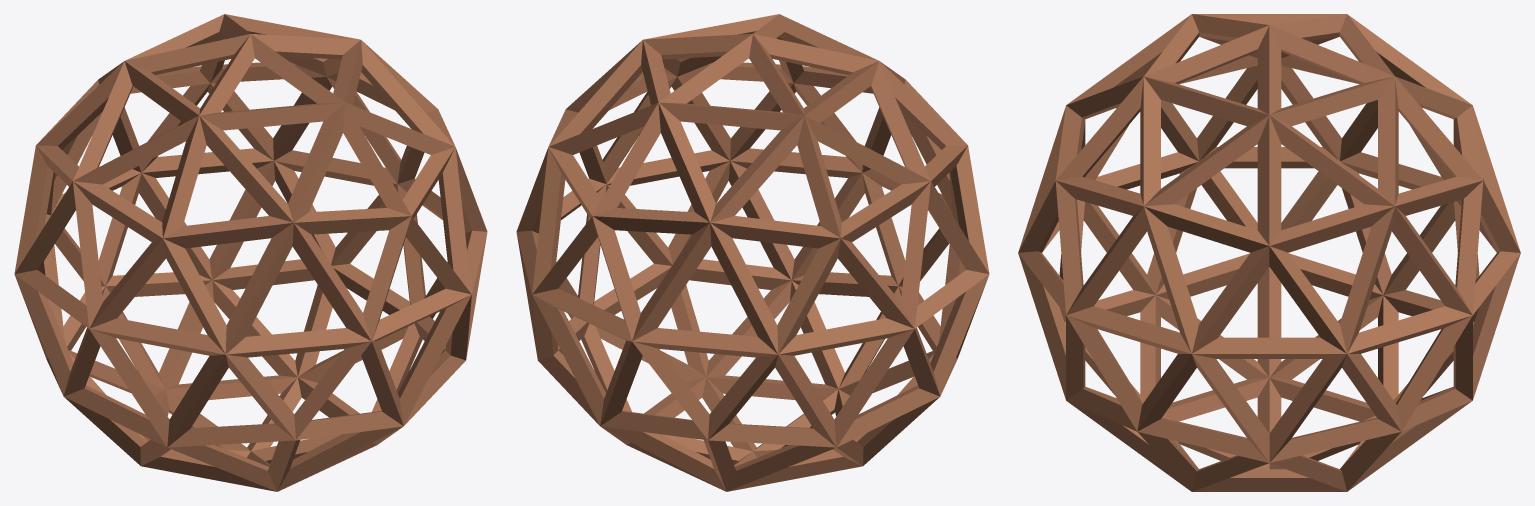
Rendered from Deco_Sphere_Large.fbx.
The picture shows the model from 3 angles, left to right: view 1: azimuth 30°, elevation 25°; view 2: azimuth 150°, elevation 25°; view 3: azimuth 270°, elevation 25°; orthographic projection. The views are drawn at different scales.
Visible parts, largest first — view 1: Deco_Sphere_Large; view 2: Deco_Sphere_Large; view 3: Deco_Sphere_Large.
Boxes of the visible parts, x1,y1,x2,y2 form: Deco_Sphere_Large: (14, 14, 487, 491); Deco_Sphere_Large: (516, 14, 989, 491); Deco_Sphere_Large: (1018, 14, 1520, 491).
Bounding box in the file's own units: 0.0551 × 0.0579 × 0.0579.
